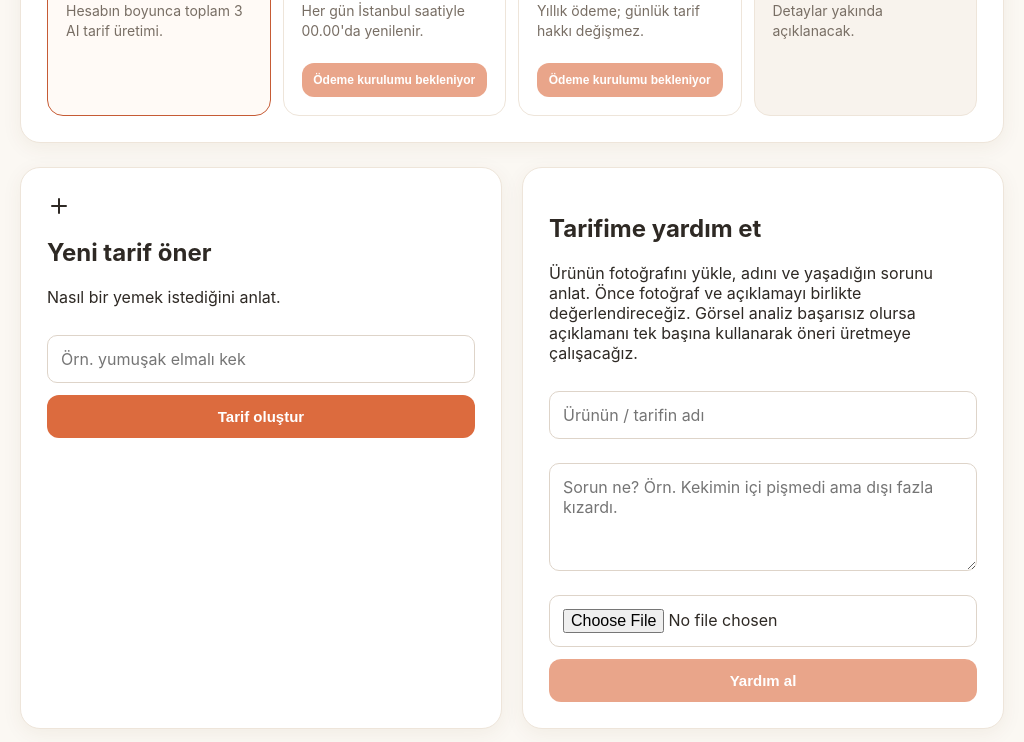
Scenario: App recipe generation › renders the generated recipe and refreshes the quota
This screenshot has width=1024, height=742.
(page scrolled)
Type "elmalı kek" into the field with placeholder "Örn. yumuşak elmalı kek" at x=261, y=359, box [47, 335, 475, 383]
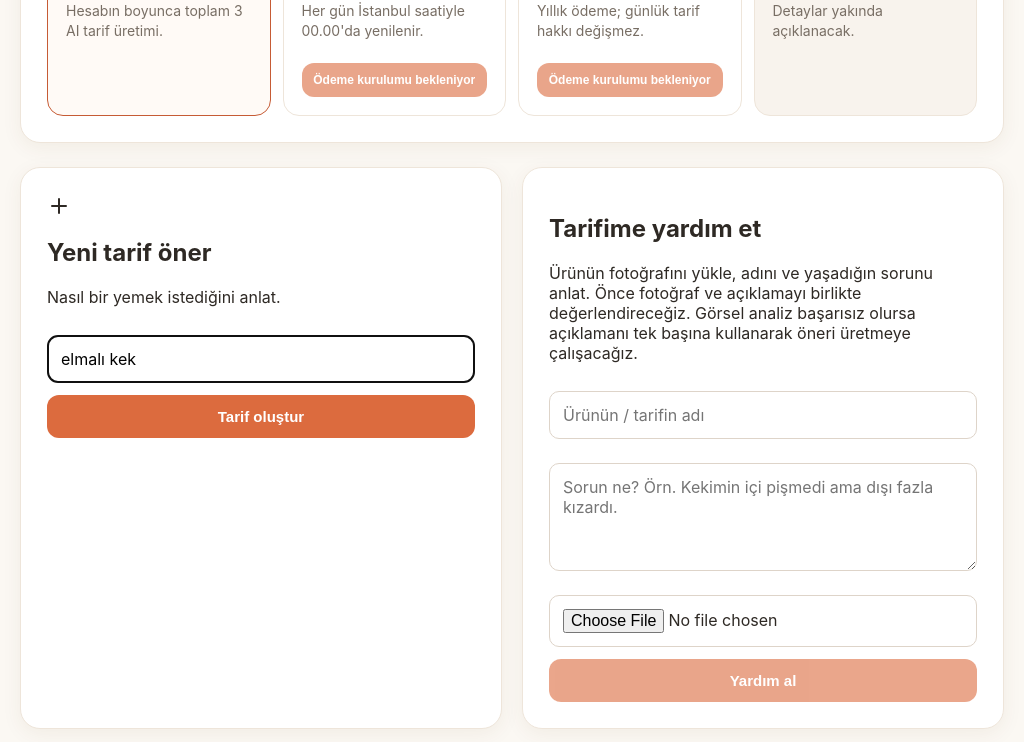
Click the button "Tarif oluştur" at x=261, y=416, box [47, 395, 475, 438]
(page scrolled)
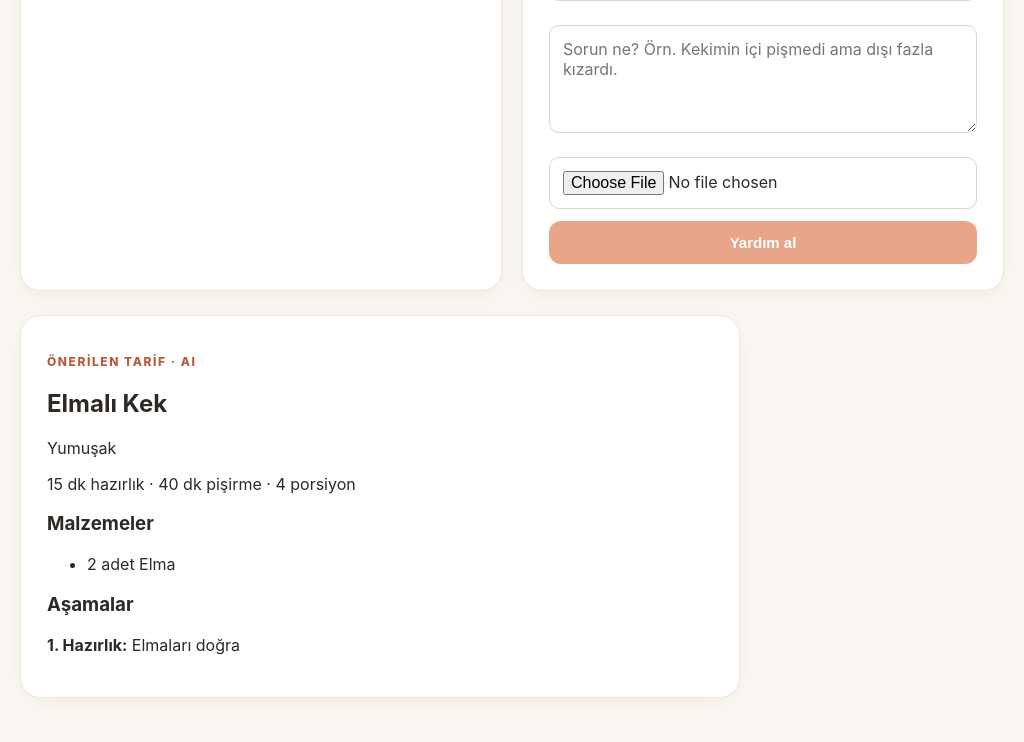
Result: the heading "Elmalı Kek" is shown at [47, 389, 167, 418]
Result: the list item "2 adet Elma" is shown at [87, 554, 176, 574]
